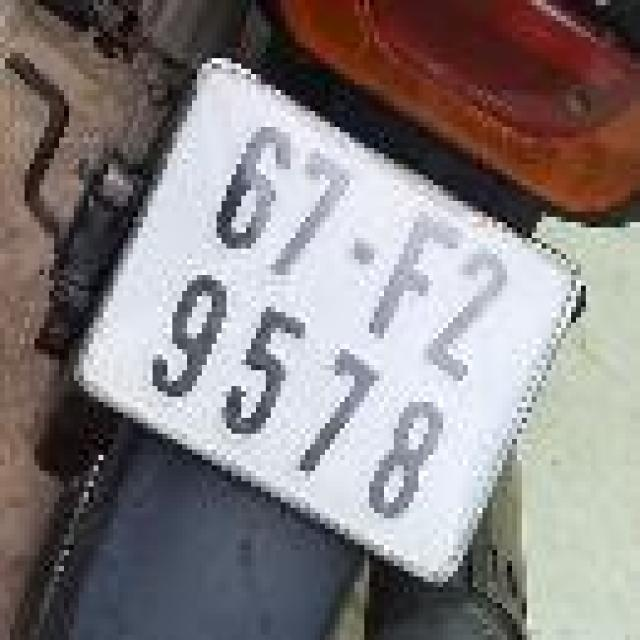2: (404, 226, 532, 407)
5: (203, 278, 325, 460)
6: (192, 105, 307, 276)
7: (248, 125, 370, 295), (276, 330, 398, 500)
8: (347, 377, 463, 539)
9: (124, 258, 248, 418)
F: (350, 191, 483, 367)
